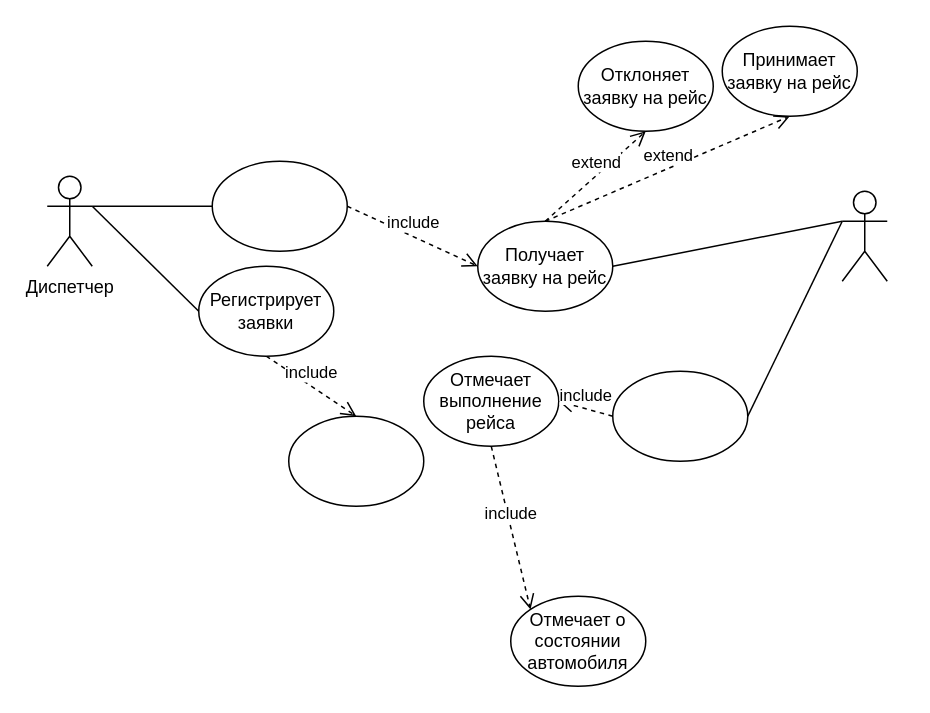
Image size: 930x713. Some labels were removed from this diagram. The shapes that lost their labels are listed below. From the top down, each one's centre as x and y in pixels, then its label:
(279,205): Распределяет заявки на рейс
(864,235): Водитель
(679,415): Выполняет рейс
(355,460): выбор автомобиля для рейса
